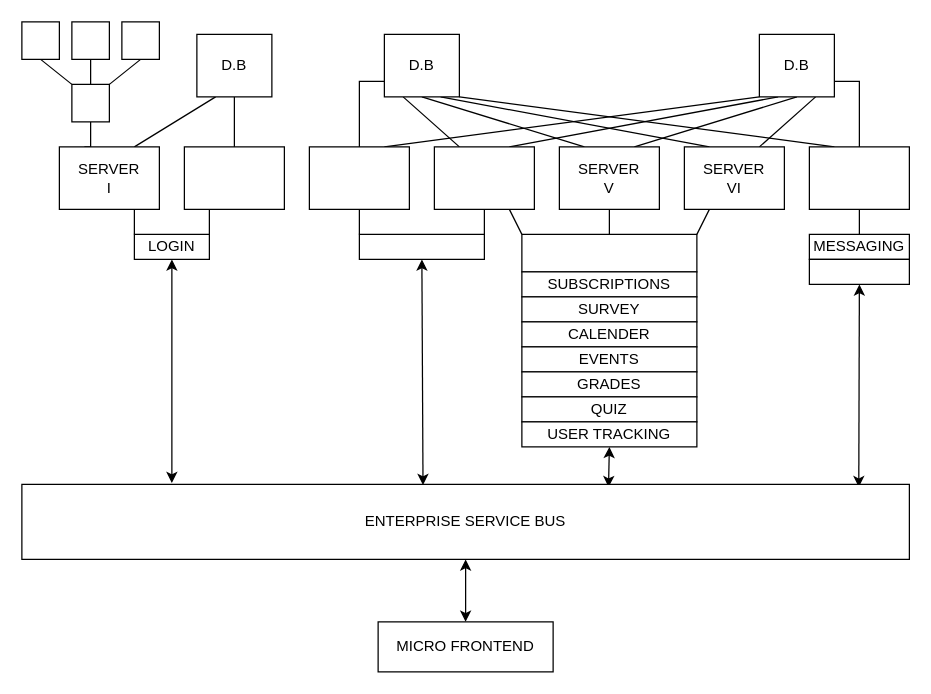
This 931x694 diagram has some shape labels left out. The centre of each missing label's shape, as x and y in pixels:
"DOCUMENTS" goes at pixel 421 246.
"L.B" goes at pixel 90 102.
"NOTIFICATIONS / ALERTS" goes at pixel 609 252.
"RTC" goes at pixel 858 271.
"SERVER II" goes at pixel 233 177.
"SERVER III" goes at pixel 358 177.
"SERVER IV" goes at pixel 483 177.
"SERVER VII" goes at pixel 858 177.
